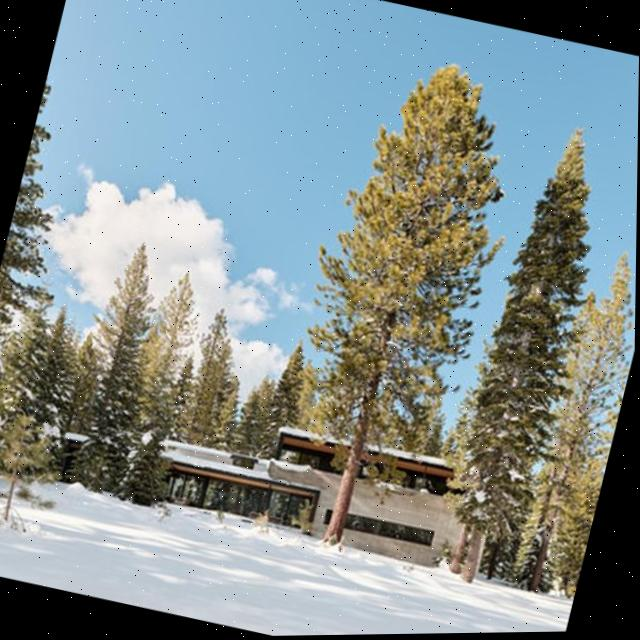building: (18, 361, 493, 587)
